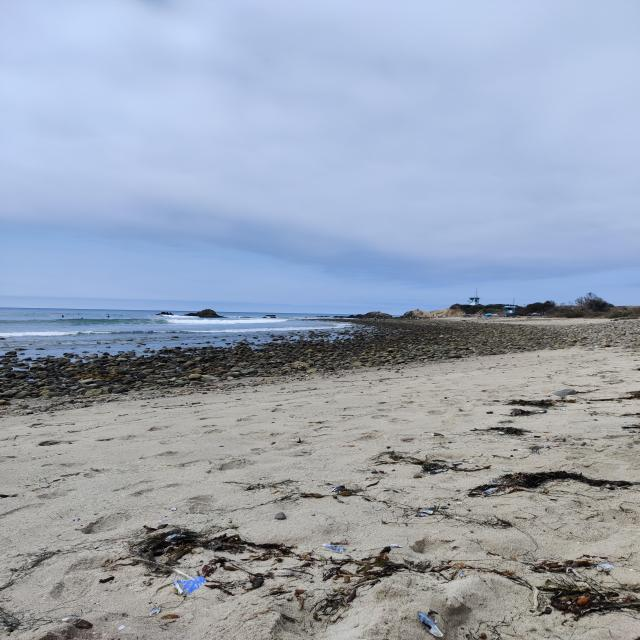litter: (173, 576, 206, 596)
